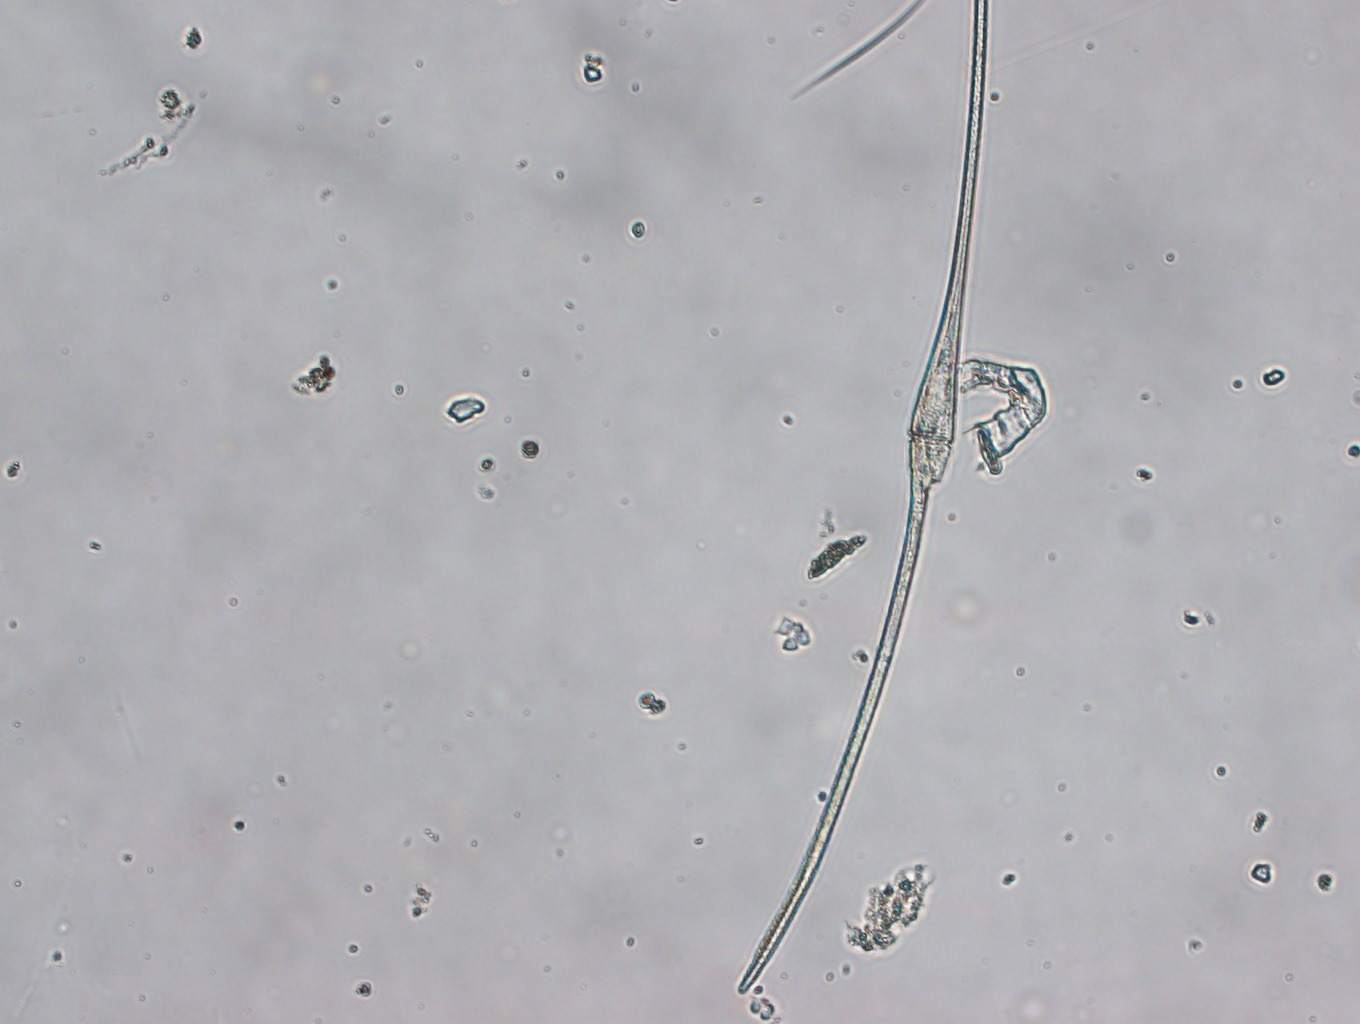ceratium fusus: (736, 1, 992, 999)
